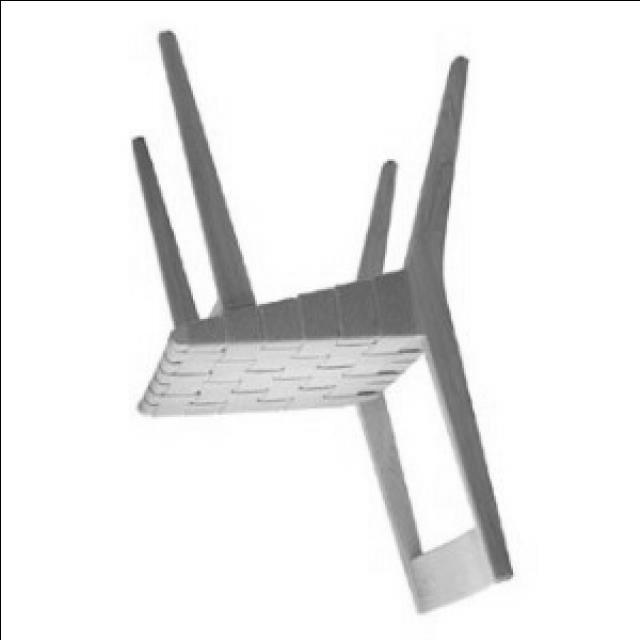chair: (124, 30, 516, 616)
